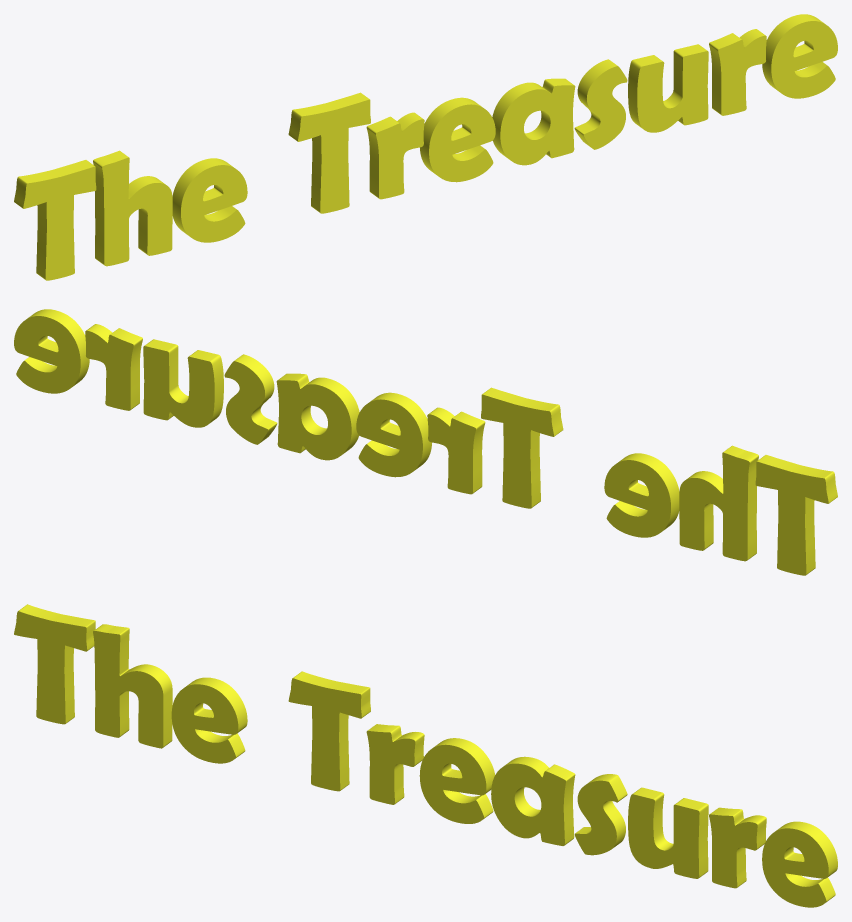
The model's file is Title_T.FBX.
3 renders of one model, top to bottom at view 1: azimuth 30°, elevation 25°; view 2: azimuth 150°, elevation 25°; view 3: azimuth 330°, elevation 25°, orthographic.
Parts seen in each view (by area): view 1: Text001; view 2: Text001; view 3: Text001.
Part boxes in pixels (bbox=[...]): Text001: bbox=[14, 14, 837, 280]; Text001: bbox=[14, 309, 837, 575]; Text001: bbox=[14, 604, 837, 907].
Size of the model in its own units: 116 by 14.46 by 2.27.
